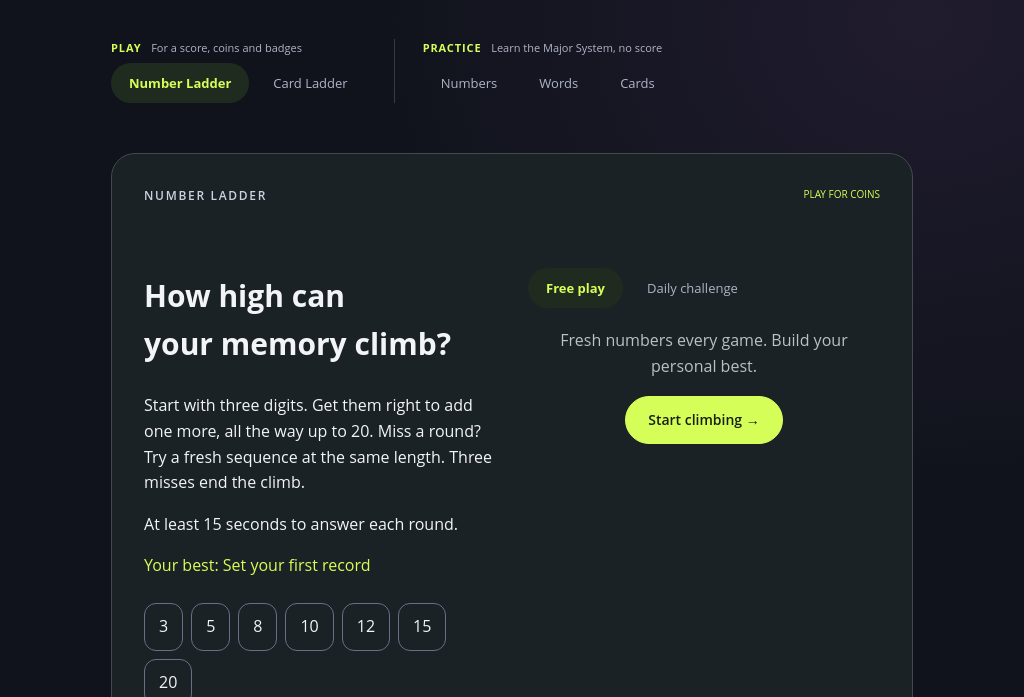
Test: the word lab finds a word and shows its number and definitions
Click the button "Words": (559, 83) [521,63,596,103]
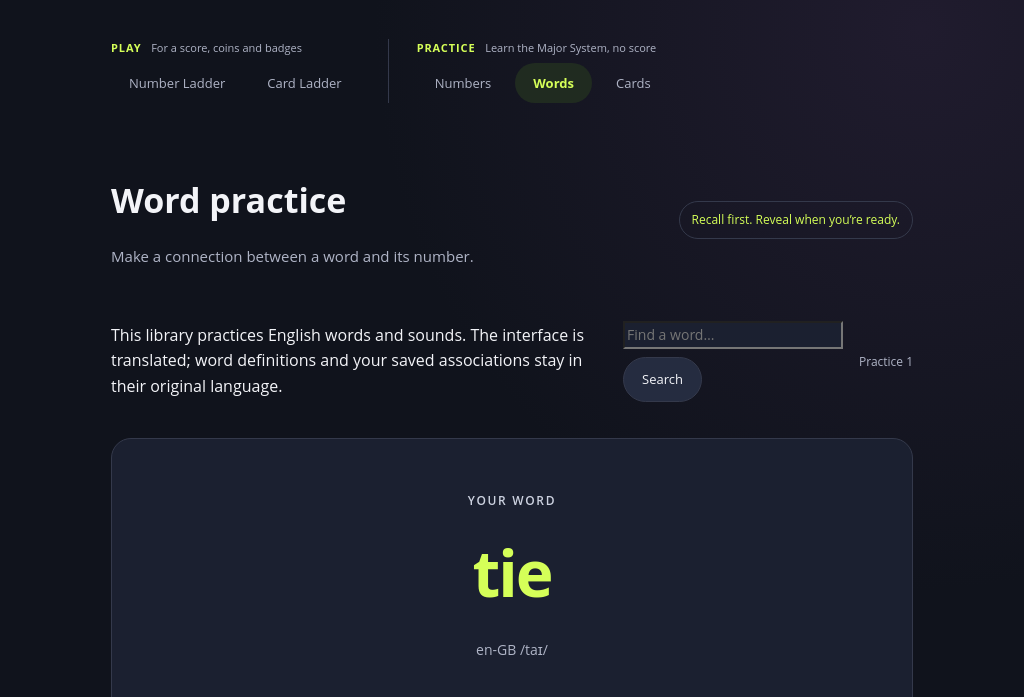
Now the text "Your word" is shown, box [468,492,556,509]
In the field with placeholder "Find a word…": (733, 335) [623,321,843,349], type "Sock"
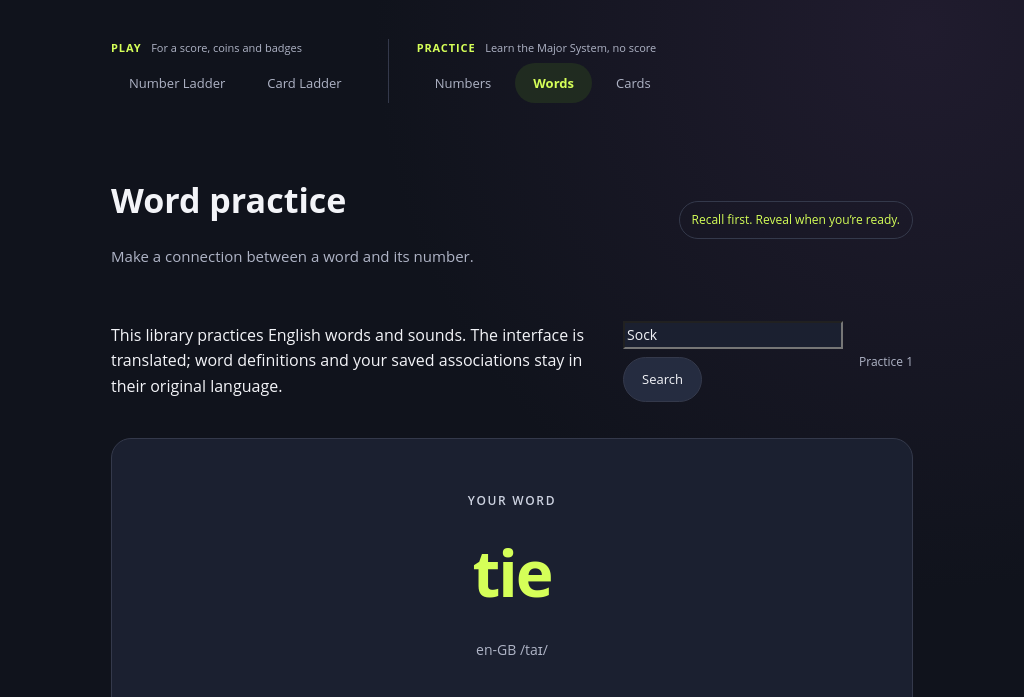
Click the button "Search": (662, 379) [623,357,702,402]
(page scrolled)
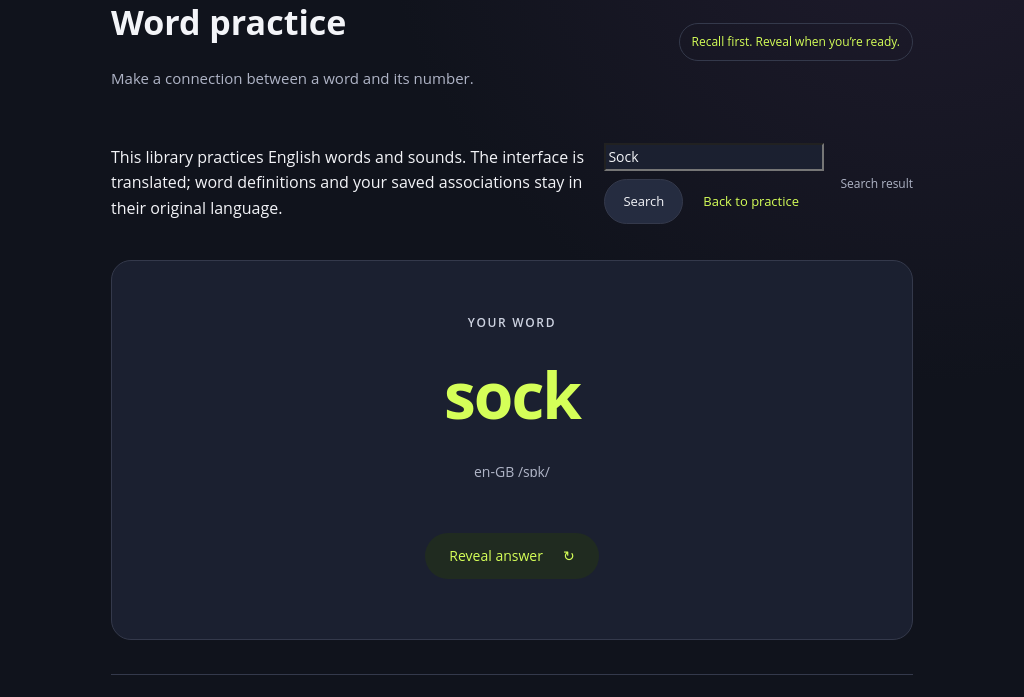
Now the heading "sock" is shown, box [444,351,580,438]
Click the button "Reveal answer ↻": (512, 556) [425,533,599,579]
(page scrolled)
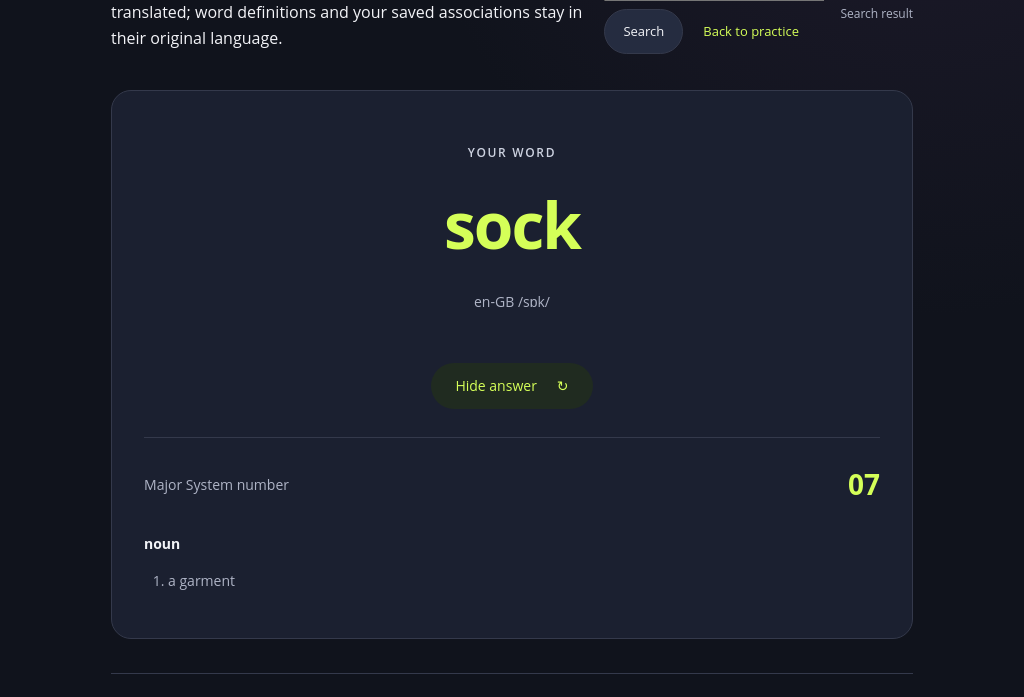
Now the text "07" is shown, box [848,462,880,507]
Now the list item "a garment" is shown, box [168,570,235,590]
